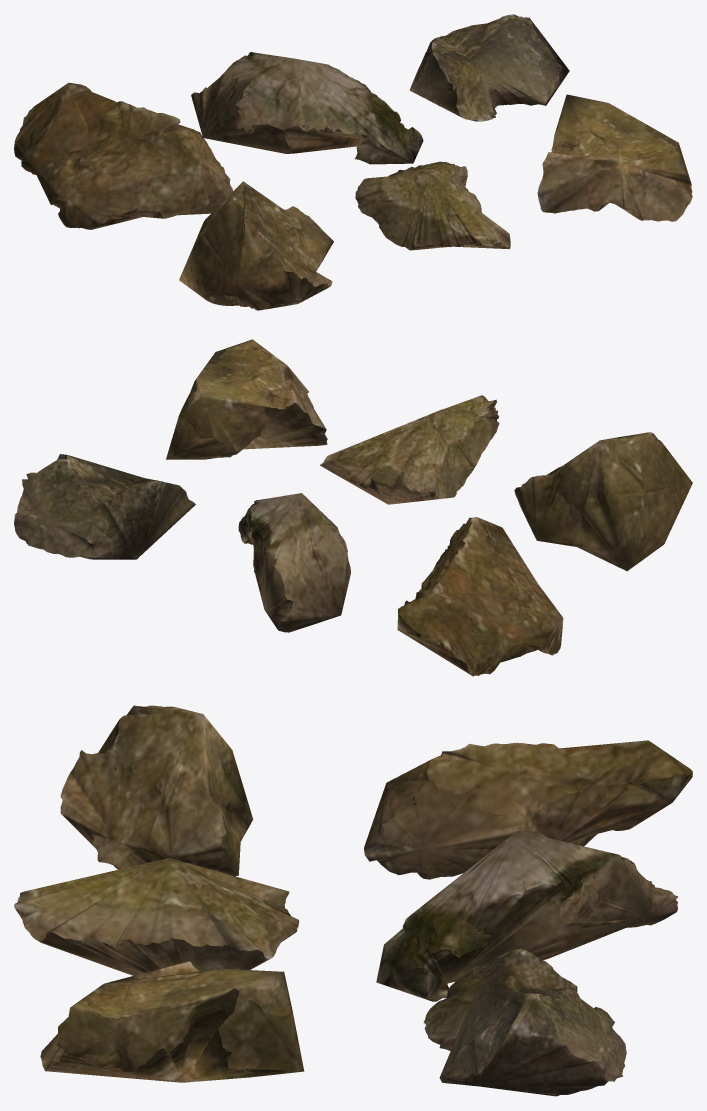
File: ph_rocks.glb
3 views of the same model, one above another, from view 1: azimuth 30°, elevation 25°; view 2: azimuth 150°, elevation 25°; view 3: azimuth 270°, elevation 25° (orthographic). The views are drawn at different scales.
Size of the model in its own units: 7.86 by 1.71 by 6.95.
Materials: 1 (1 with a texture image).
